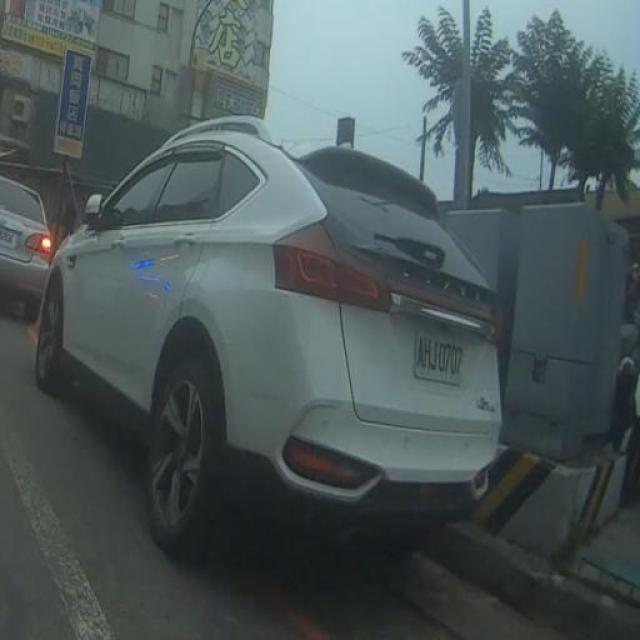Legalparking: (19, 118, 517, 570)
